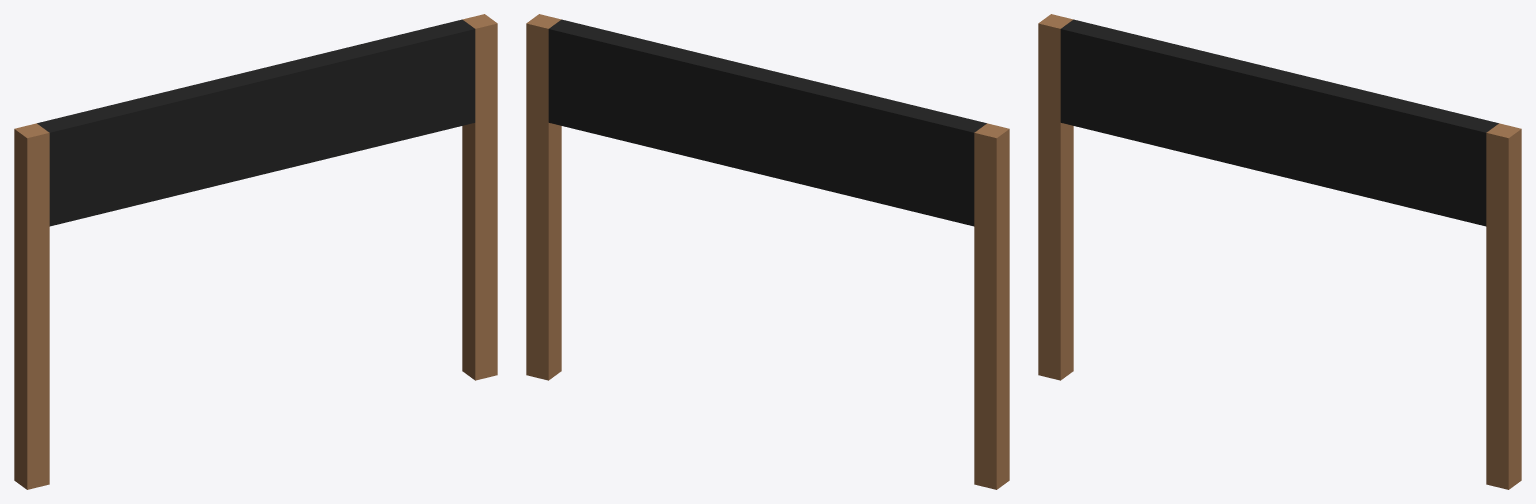
Rendered from M_HallBackStage01.fbx.
The picture shows the model from 3 angles, left to right: view 1: azimuth 30°, elevation 25°; view 2: azimuth 150°, elevation 25°; view 3: azimuth 330°, elevation 25°; orthographic projection.
Parts seen in each view (by area): view 1: M_HallBackStage01; view 2: M_HallBackStage01; view 3: M_HallBackStage01.
Boxes of the visible parts, x1,y1,x2,y2 form: M_HallBackStage01: (14,14,497,489); M_HallBackStage01: (526,14,1009,489); M_HallBackStage01: (1038,14,1521,489).
Size of the model in its own units: 10.5 by 7.5 by 0.5.
